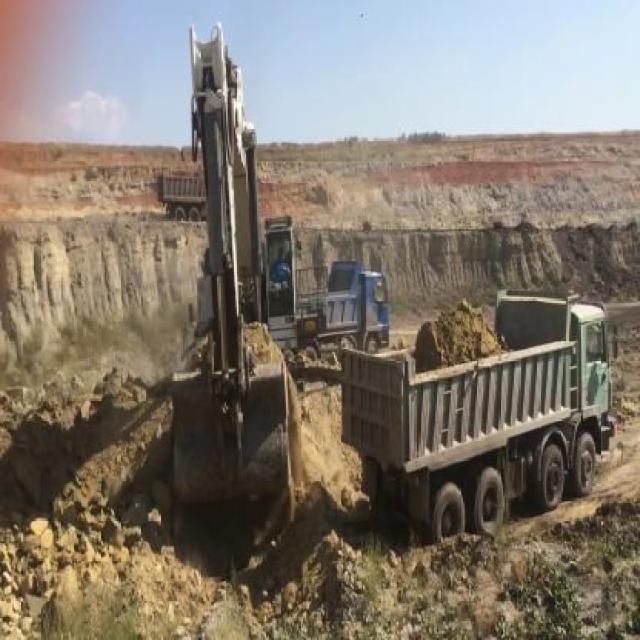dump_truck: (341, 288, 621, 546), (316, 260, 390, 346), (157, 167, 205, 219)
excavator: (166, 19, 332, 546)
